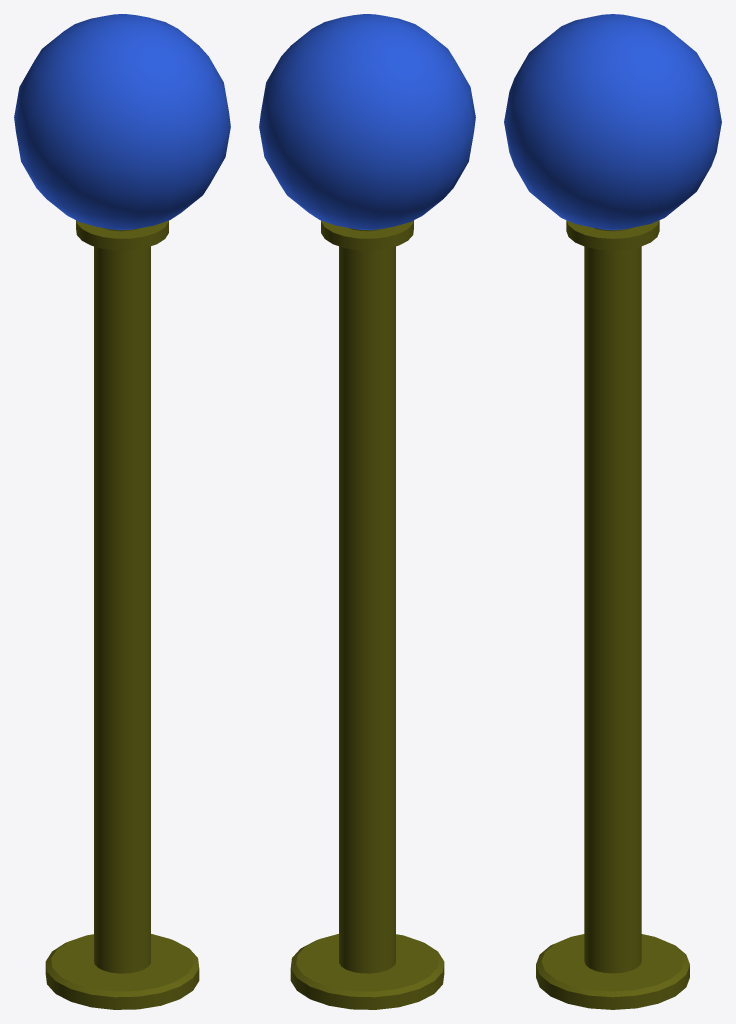
File: pedestal.fbx
3 views of the same model, side by side, from view 1: azimuth 30°, elevation 25°; view 2: azimuth 150°, elevation 25°; view 3: azimuth 270°, elevation 25° (orthographic).
Parts seen in each view (by area): view 1: pedestal_mesh; view 2: pedestal_mesh; view 3: pedestal_mesh.
Part boxes in pixels (x1,y1,x2,y2): pedestal_mesh: (14,14,230,1009); pedestal_mesh: (259,14,475,1009); pedestal_mesh: (504,14,721,1009).
Bounding box in the file's own units: 1.57 × 7.57 × 1.57.
